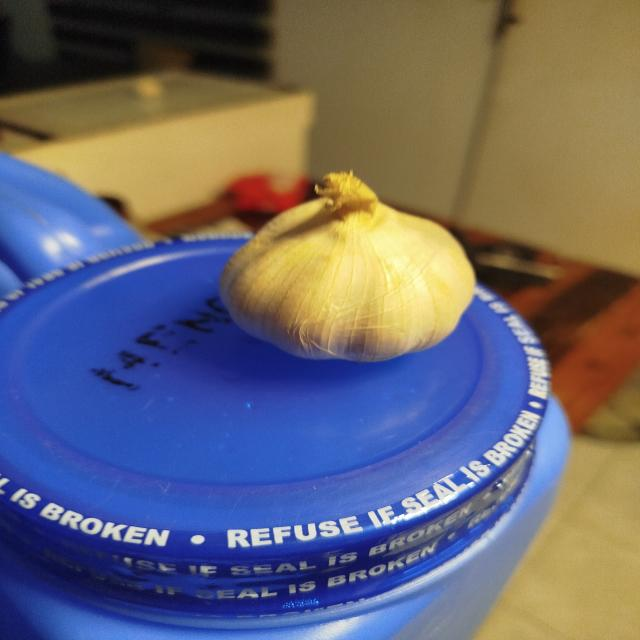garlic: (218, 169, 477, 363)
